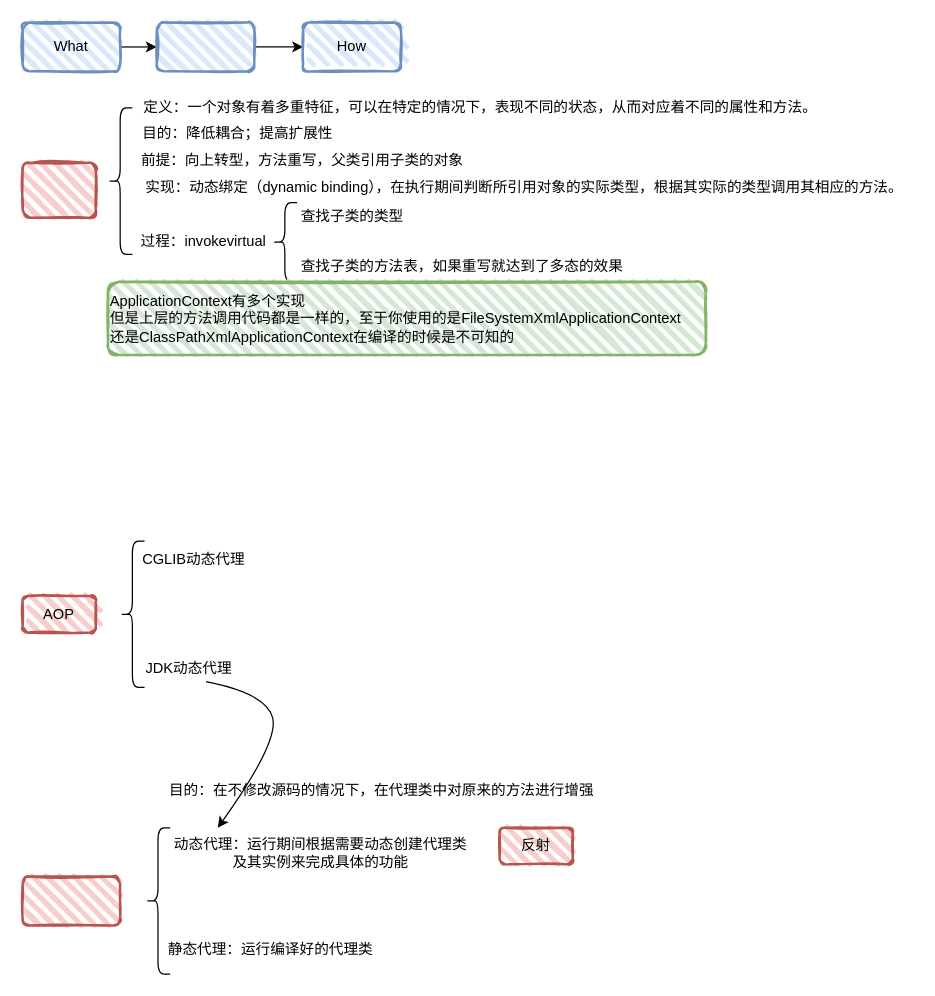
The diagram is 935 pixels wide and 996 high, and some of its shapes have lost their labels. Here are the shapes that lost their labels. From the top down, the centre of each, then its label:
the point at 205,46: Why
the point at 58,189: 多态 （方法）
the point at 71,900: 动态代理 （代理模式）
